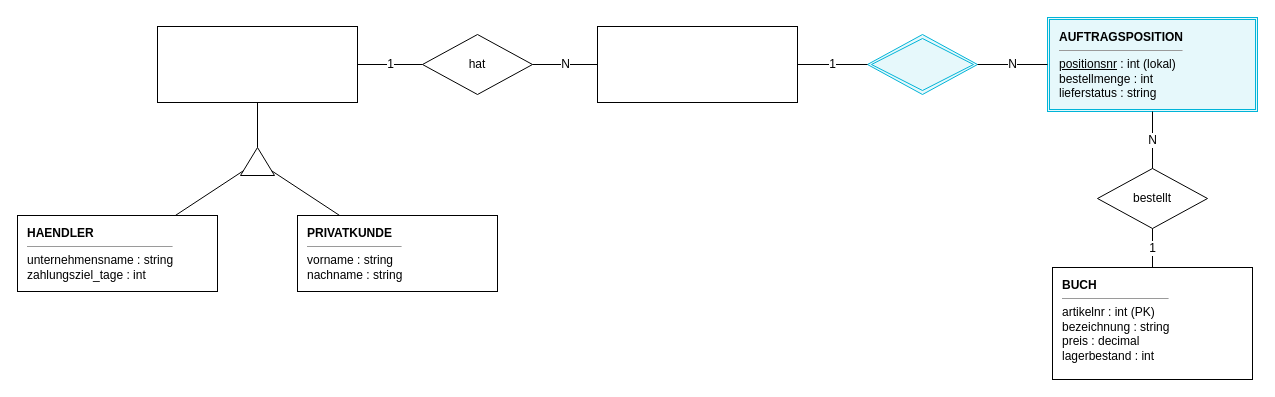
This 1275x397 diagram has some shape labels left out. The box of each missing label's shape, as (x1, y1, x2, y2) in pixels:
AUFTRAG auftragsnr : int (PK) eingangsdatum : date: (596, 26, 798, 102)
KUNDE kundennr : int (PK) anschrift : string: (156, 26, 358, 102)
umfasst: (866, 34, 978, 94)
